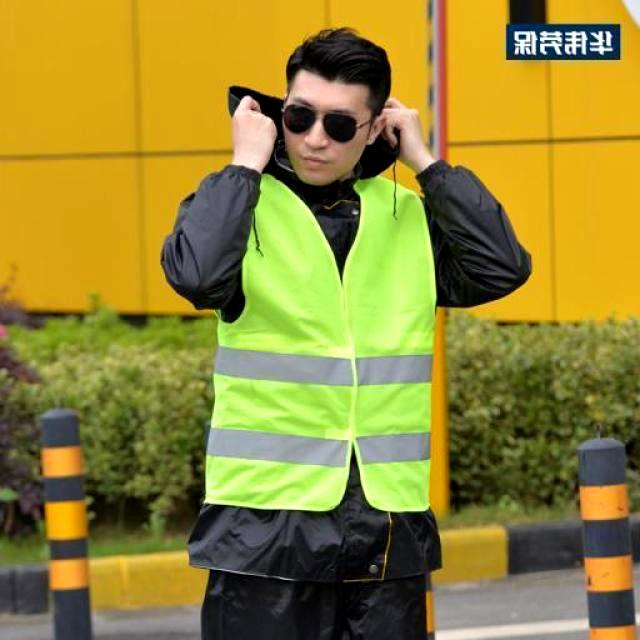no_head_wear: (288, 29, 390, 115)
person: (160, 28, 530, 639)
